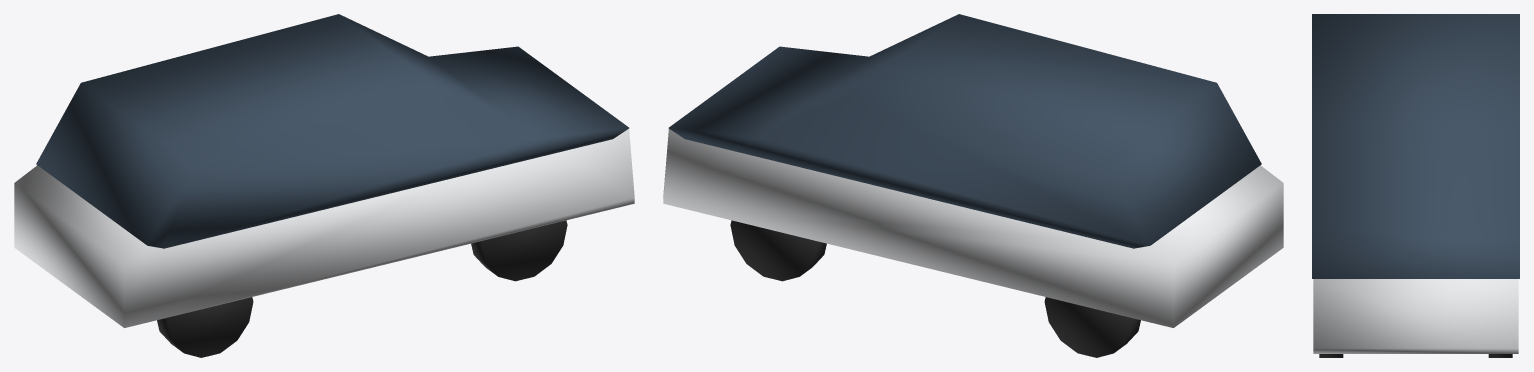
File: car_c.glb
3 renders of one model, left to right at view 1: azimuth 30°, elevation 25°; view 2: azimuth 150°, elevation 25°; view 3: azimuth 270°, elevation 25°, orthographic. The views are drawn at different scales.
Parts seen in each view (by area): view 1: car_c; view 2: car_c; view 3: car_c.
Boxes of the visible parts, <box> form: car_c: <box>14,14,634,357</box>; car_c: <box>663,14,1283,357</box>; car_c: <box>1312,14,1519,357</box>.
Bounding box in the file's own units: 4.55 × 1.75 × 1.72.
